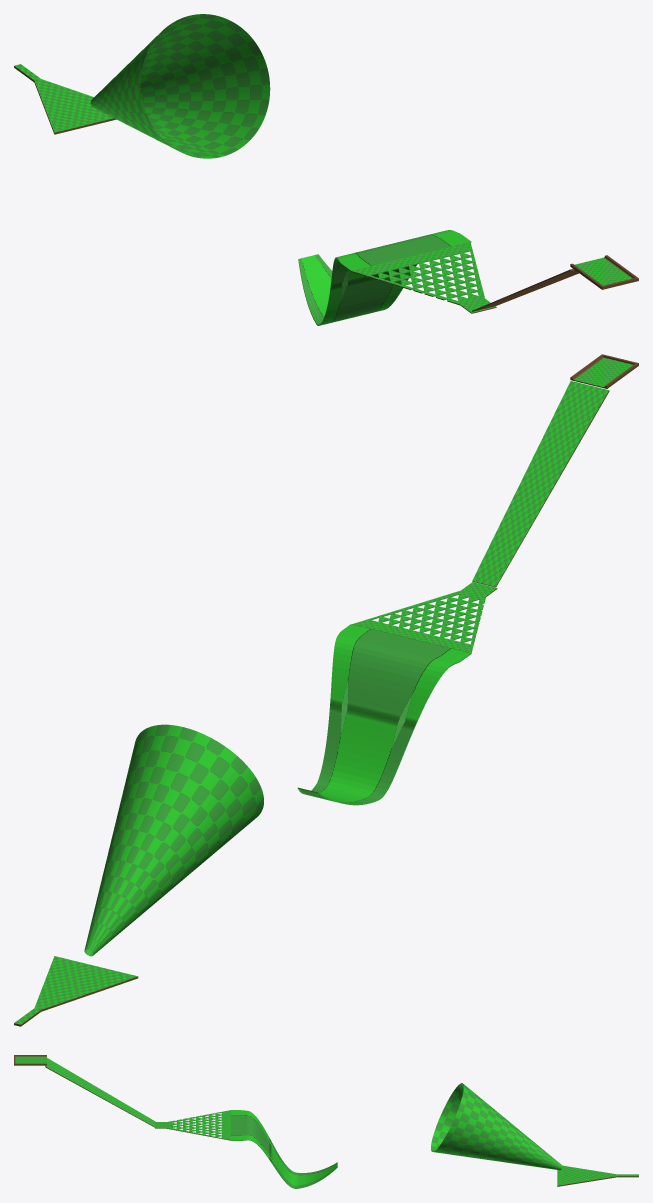
Rendered from lvl_gofast.fbx.
3 views of the same model, one above another, from view 1: azimuth 30°, elevation 25°; view 2: azimuth 150°, elevation 25°; view 3: azimuth 270°, elevation 25° (orthographic). The views are drawn at different scales.
Parts seen in each view (by area): view 1: Cylinder, Cube, 03_Triangle_Eaten, 06_EndPlatform, 01_Starting Platform, 02_Ranp; view 2: Cylinder, Cube, 02_Ranp, 03_Triangle_Eaten, 06_EndPlatform, 01_Starting Platform; view 3: Cylinder, Cube, 03_Triangle_Eaten, 02_Ranp, 06_EndPlatform, 01_Starting Platform.
Boxes of the visible parts, x1=… form: Cylinder: x1=90, y1=14, x2=270, y2=158; Cube: x1=298, y1=230, x2=471, y2=325; 03_Triangle_Eaten: x1=351, y1=242, x2=496, y2=313; 06_EndPlatform: x1=14, y1=64, x2=116, y2=134; 01_Starting Platform: x1=570, y1=255, x2=638, y2=289; 02_Ranp: x1=472, y1=269, x2=578, y2=311; Cylinder: x1=84, y1=724, x2=263, y2=956; Cube: x1=297, y1=624, x2=470, y2=805; 02_Ranp: x1=472, y1=381, x2=609, y2=587; 03_Triangle_Eaten: x1=352, y1=582, x2=497, y2=653; 06_EndPlatform: x1=14, y1=956, x2=138, y2=1026; 01_Starting Platform: x1=570, y1=354, x2=638, y2=388; Cylinder: x1=431, y1=1083, x2=562, y2=1170; Cube: x1=231, y1=1110, x2=337, y2=1188; 03_Triangle_Eaten: x1=155, y1=1110, x2=230, y2=1140; 02_Ranp: x1=45, y1=1058, x2=155, y2=1127; 06_EndPlatform: x1=557, y1=1165, x2=638, y2=1186; 01_Starting Platform: x1=14, y1=1055, x2=46, y2=1065.
Size of the model in its own units: 151 by 269 by 1255.
